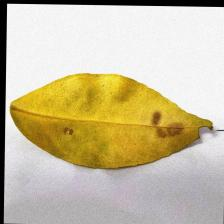black spot: (54, 90, 221, 161)
